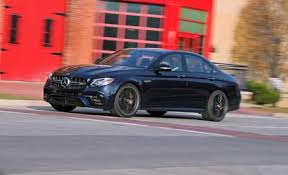car: (39, 44, 246, 125)
